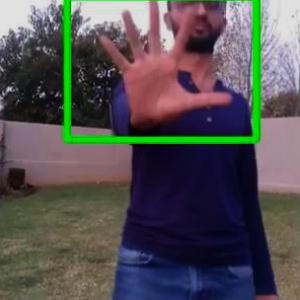follow_hand: (91, 0, 237, 133)
